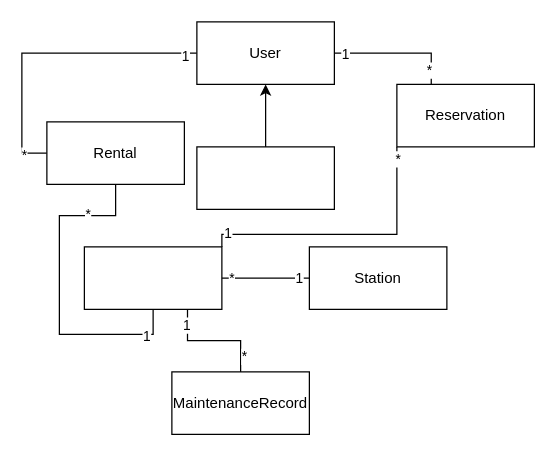
The diagram is 556 pixels wide and 456 high, and some of its shapes have lost their labels. The shapes that lost their labels are listed below. From the top down, each one's centre as x and y in pixels, then its label:
point (265, 177): Member
point (152, 277): Scooter
